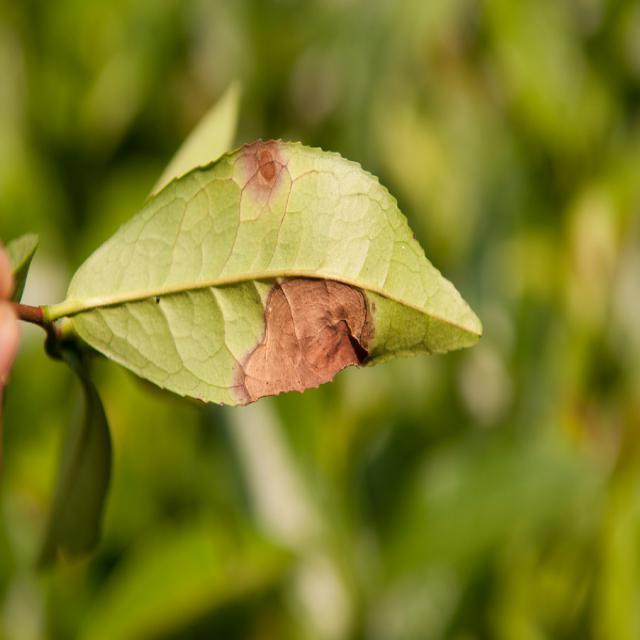Tea cloud leaf blight: (249, 267, 373, 404), (230, 133, 291, 201)
